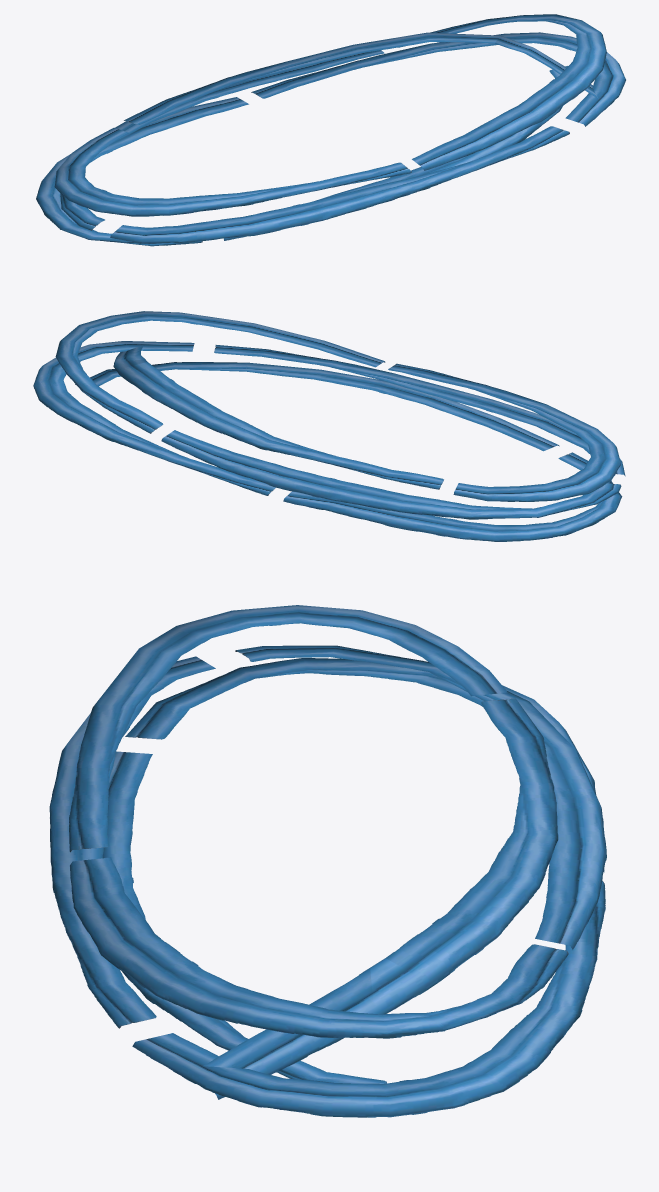
The model's file is Wire_Bundle_02.FBX.
3 renders of one model, top to bottom at view 1: azimuth 30°, elevation 25°; view 2: azimuth 150°, elevation 25°; view 3: azimuth 270°, elevation 25°, orthographic. The views are drawn at different scales.
Parts seen in each view (by area): view 1: Wire_Bundle_02; view 2: Wire_Bundle_02; view 3: Wire_Bundle_02.
Boxes of the visible parts, x1,y1,x2,y2 form: Wire_Bundle_02: [36, 14, 625, 246]; Wire_Bundle_02: [33, 311, 625, 541]; Wire_Bundle_02: [49, 605, 606, 1117].
Bounding box in the file's own units: 4.31 × 0.6429 × 2.14.
